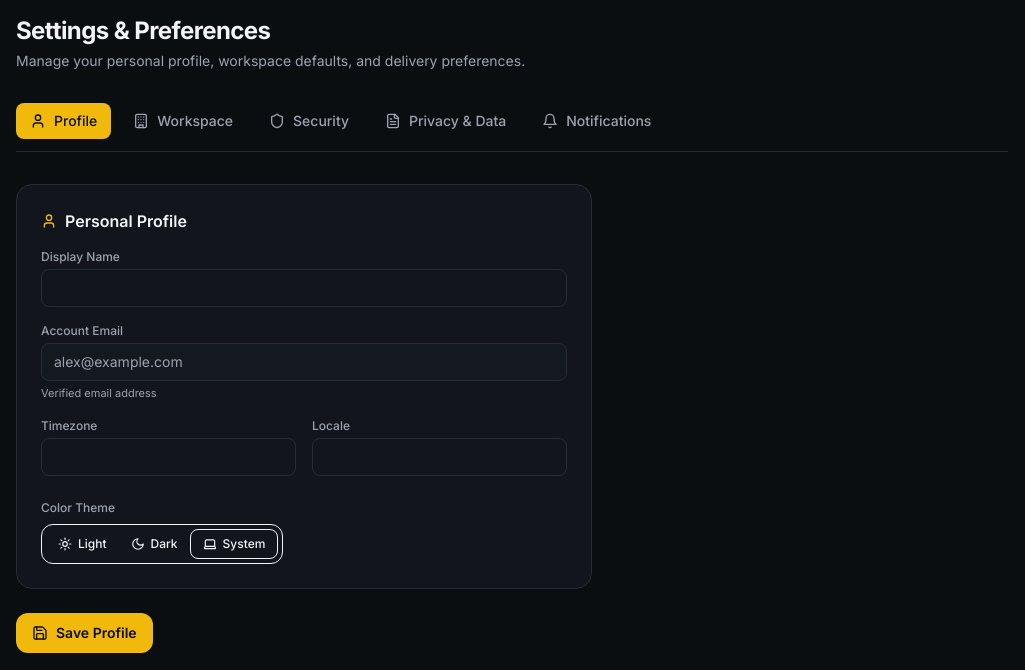
it: SettingsPage › switches to privacy tab and displays export and transparency map
This screenshot has width=1025, height=670.
Expected: the heading "Settings & Preferences" is shown, [16,16,270,45]
Click the button "Privacy & Data".
click(446, 121)  # box [371,103,520,139]
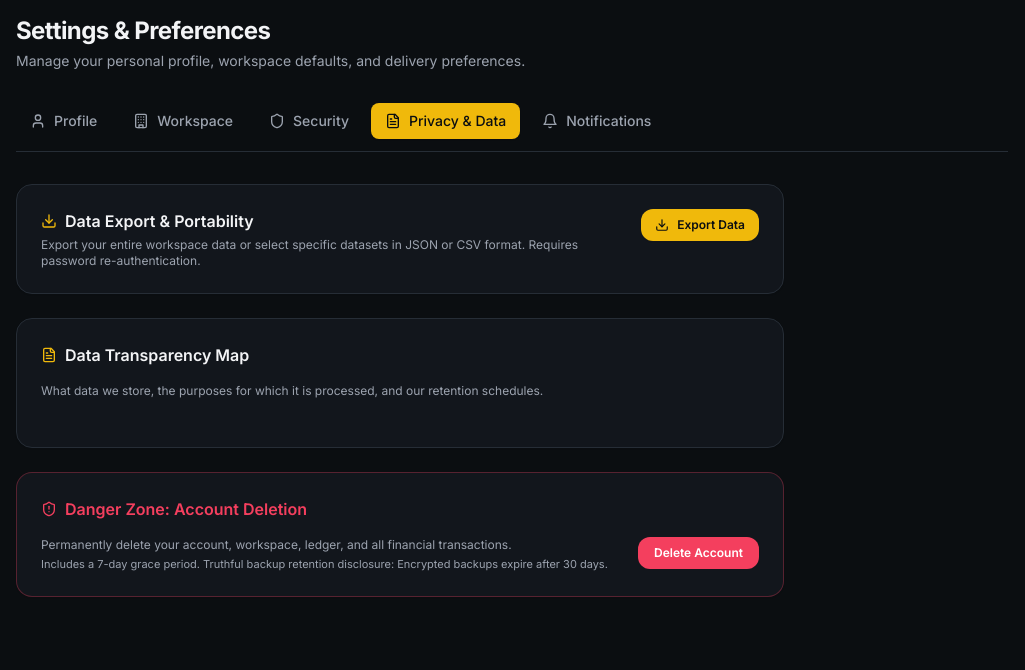
Now the heading "Data Export & Portability" is shown, box [41,211,254,231]
Now the heading "Data Transparency Map" is shown, box [41,345,249,365]
Now the heading "Danger Zone: Account Deletion" is shown, box [41,499,307,519]
